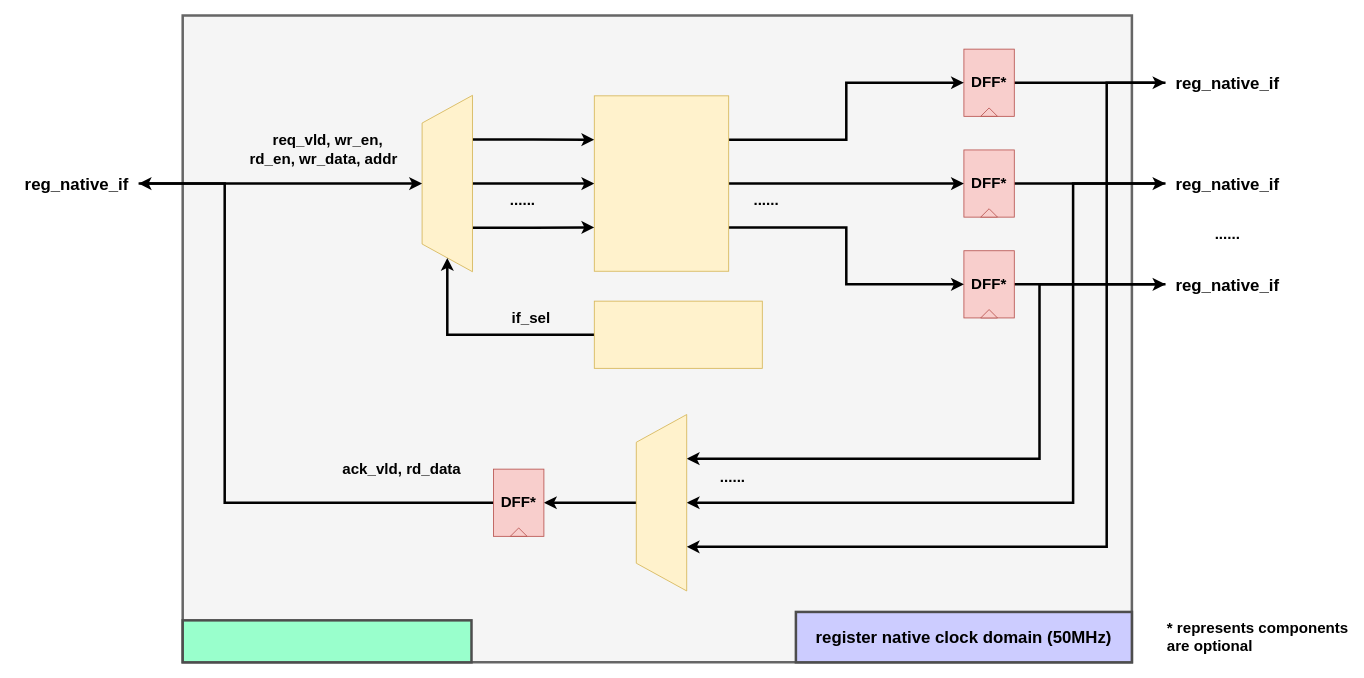
Image size: 1364x678. Some labels were removed from this diagram. Each missing label, with the centre of its shape:
addr_conv: the point at 661,183
dispatch_decoder: the point at 677,334
Register Dispatcher (regdisp): the point at 326,641
